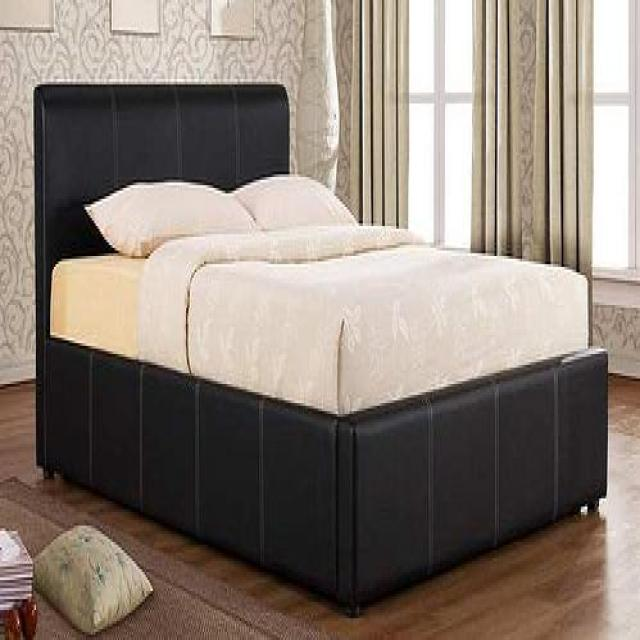bed: (32, 79, 608, 615)
